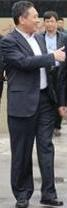boots: (15, 198, 29, 208), (0, 126, 5, 132)
hard-hat: (1, 0, 1, 0)
